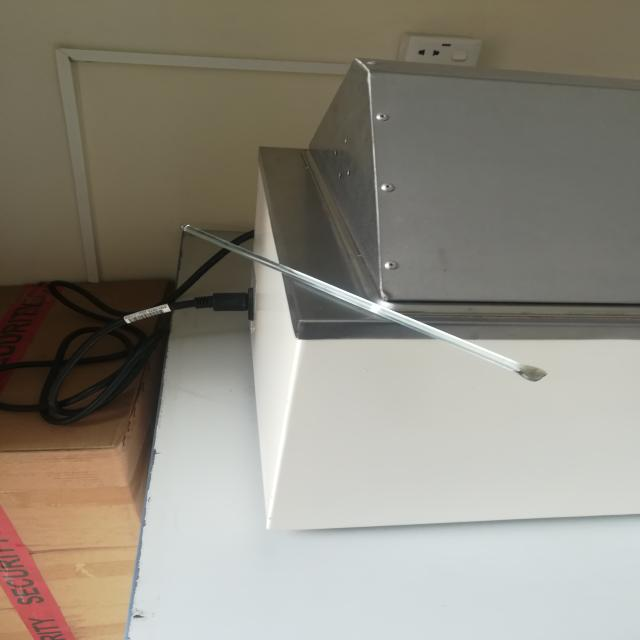Glass_Rod: (160, 205, 572, 412)
